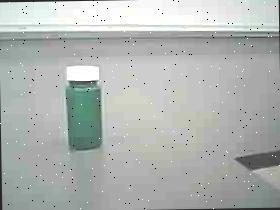Bottle C: (55, 60, 114, 154)
